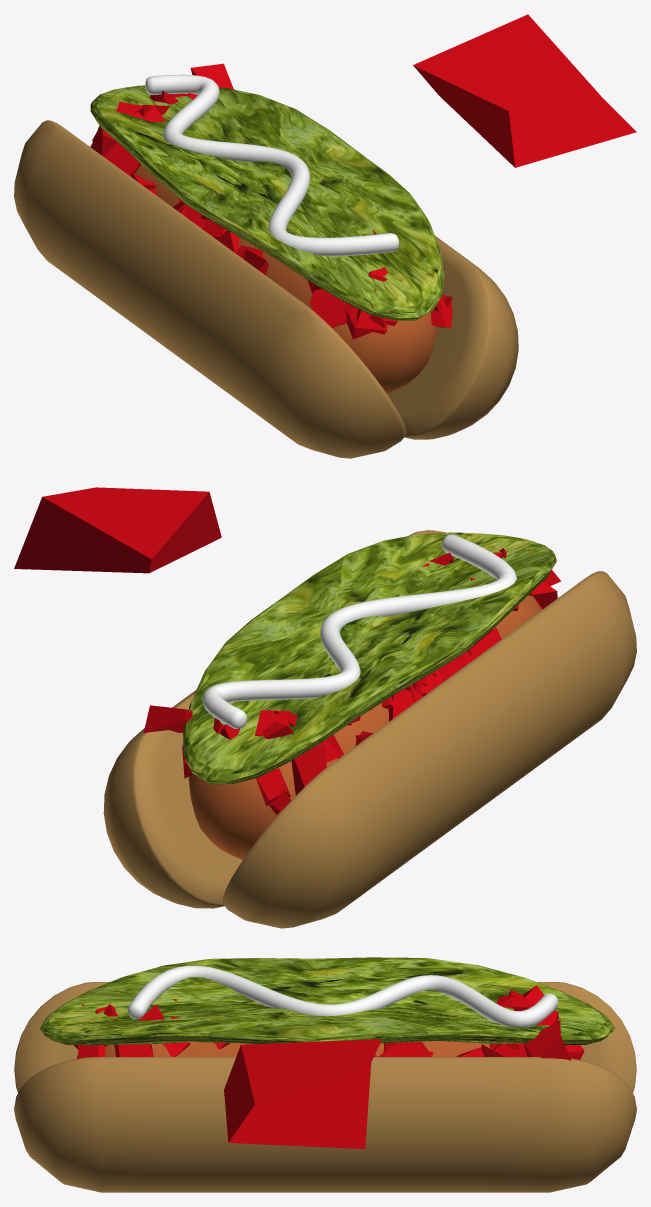
File: Completo Chileno.fbx
3 views of the same model, one above another, from view 1: azimuth 30°, elevation 25°; view 2: azimuth 150°, elevation 25°; view 3: azimuth 270°, elevation 25° (orthographic). The views are drawn at different scales.
Visible parts, largest first — view 1: Sphere.001, Cylinder, Cube, NurbsPath, Sphere, Cube Duplicator|Cube - copy|Dupli|64, Cube Duplicator|Cube - copy|Dupli|10; view 2: Sphere.001, Cylinder, Cube, NurbsPath, Sphere, Cube Duplicator|Cube - copy|Dupli|86, Cube Duplicator|Cube - copy|Dupli|72, Cube Duplicator|Cube - copy|Dupli|51; view 3: Sphere.001, Cylinder, Cube, NurbsPath, Sphere, Cube Duplicator|Cube - copy|Dupli|72, Cube Duplicator|Cube - copy|Dupli|73, Cube Duplicator|Cube - copy|Dupli|79.
Boxes of the visible parts, <box> form: Sphere.001: <box>14,89,518,458</box>; Cylinder: <box>90,85,444,320</box>; Cube: <box>413,14,636,167</box>; NurbsPath: <box>145,74,399,256</box>; Sphere: <box>135,164,437,393</box>; Cube Duplicator|Cube - copy|Dupli|64: <box>310,288,347,327</box>; Cube Duplicator|Cube - copy|Dupli|10: <box>104,142,140,176</box>; Sphere.001: <box>103,530,636,928</box>; Cylinder: <box>183,532,556,784</box>; Cube: <box>14,487,221,573</box>; NurbsPath: <box>202,534,516,728</box>; Sphere: <box>188,595,541,859</box>; Cube Duplicator|Cube - copy|Dupli|86: <box>291,745,326,795</box>; Cube Duplicator|Cube - copy|Dupli|72: <box>143,705,192,733</box>; Cube Duplicator|Cube - copy|Dupli|51: <box>256,768,290,805</box>; Sphere.001: <box>14,982,636,1192</box>; Cylinder: <box>40,957,615,1045</box>; Cube: <box>224,1039,381,1149</box>; NurbsPath: <box>127,965,558,1027</box>; Sphere: <box>76,1041,490,1058</box>; Cube Duplicator|Cube - copy|Dupli|72: <box>524,1019,571,1060</box>; Cube Duplicator|Cube - copy|Dupli|73: <box>380,1041,429,1056</box>; Cube Duplicator|Cube - copy|Dupli|79: <box>114,1044,153,1056</box>.
Size of the model in its own units: 425 by 232 by 558.
